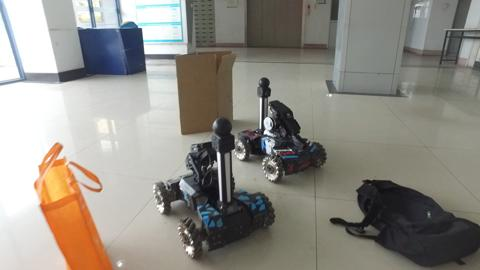box: (173, 50, 233, 121)
chariot: (152, 118, 280, 260), (235, 75, 329, 181)
